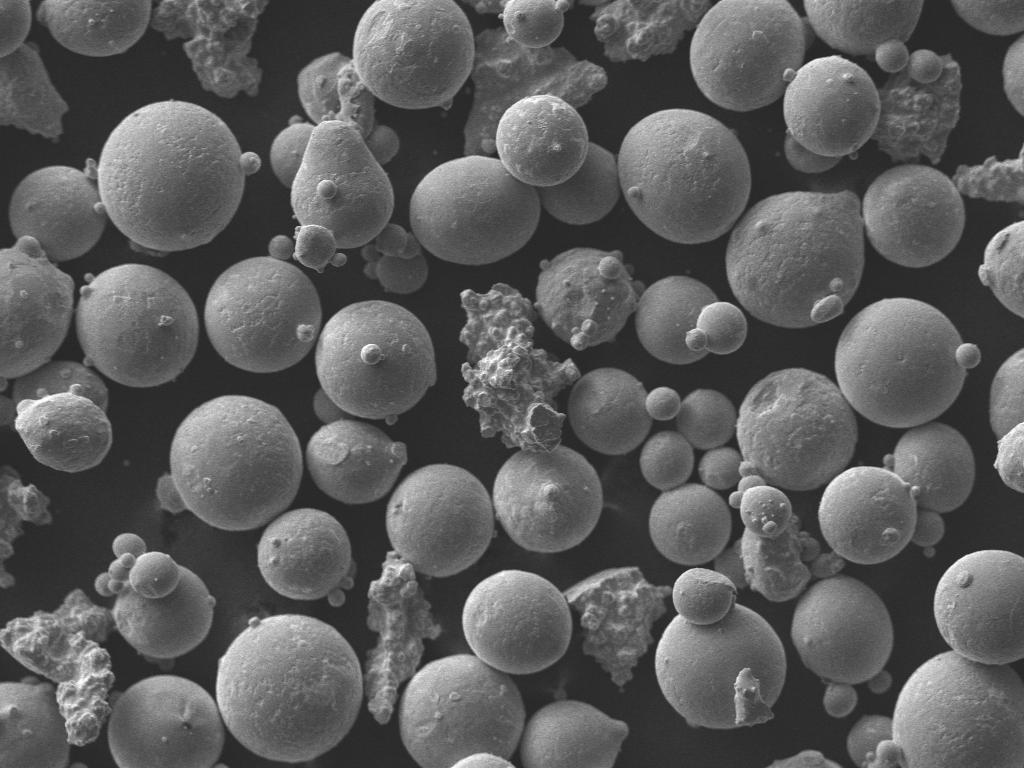Powder: (98, 100, 262, 251), (216, 614, 362, 762), (654, 568, 786, 729), (460, 284, 580, 452), (156, 396, 302, 530), (726, 190, 864, 328), (836, 298, 980, 428), (464, 28, 608, 156), (0, 590, 114, 746), (618, 110, 750, 243), (204, 234, 322, 372), (730, 462, 844, 602), (290, 120, 394, 271), (892, 652, 1024, 768), (314, 300, 436, 424), (96, 534, 216, 660), (76, 264, 198, 387), (736, 368, 858, 490), (792, 574, 894, 718), (398, 654, 526, 766), (410, 156, 540, 265), (354, 0, 474, 109), (364, 552, 440, 724), (564, 566, 672, 687), (690, 0, 804, 111), (0, 360, 112, 472), (884, 422, 976, 557), (386, 464, 494, 578), (492, 446, 602, 552), (462, 570, 572, 674), (152, 0, 268, 98), (536, 248, 644, 350), (862, 164, 966, 268), (108, 676, 224, 768), (0, 236, 74, 378), (934, 550, 1024, 664), (8, 158, 106, 261), (872, 50, 960, 163), (568, 368, 682, 455), (636, 276, 748, 364), (784, 56, 880, 157), (258, 508, 356, 606), (818, 466, 916, 564), (804, 0, 923, 72), (306, 420, 406, 504), (496, 94, 586, 186), (590, 0, 712, 62), (520, 702, 628, 768), (0, 42, 68, 141), (650, 484, 732, 566), (538, 142, 620, 223), (298, 52, 374, 138), (36, 0, 152, 56), (0, 466, 52, 587), (0, 682, 70, 767), (464, 0, 570, 48), (978, 220, 1024, 317), (952, 146, 1024, 203), (374, 224, 428, 293), (676, 388, 736, 449), (640, 430, 694, 489), (990, 348, 1024, 439), (846, 716, 906, 767), (270, 122, 314, 188), (952, 0, 1024, 36), (784, 132, 842, 174), (994, 422, 1024, 491), (698, 446, 742, 490), (0, 0, 32, 57), (1002, 34, 1024, 115), (714, 540, 748, 590), (366, 124, 400, 164), (768, 750, 842, 767)
